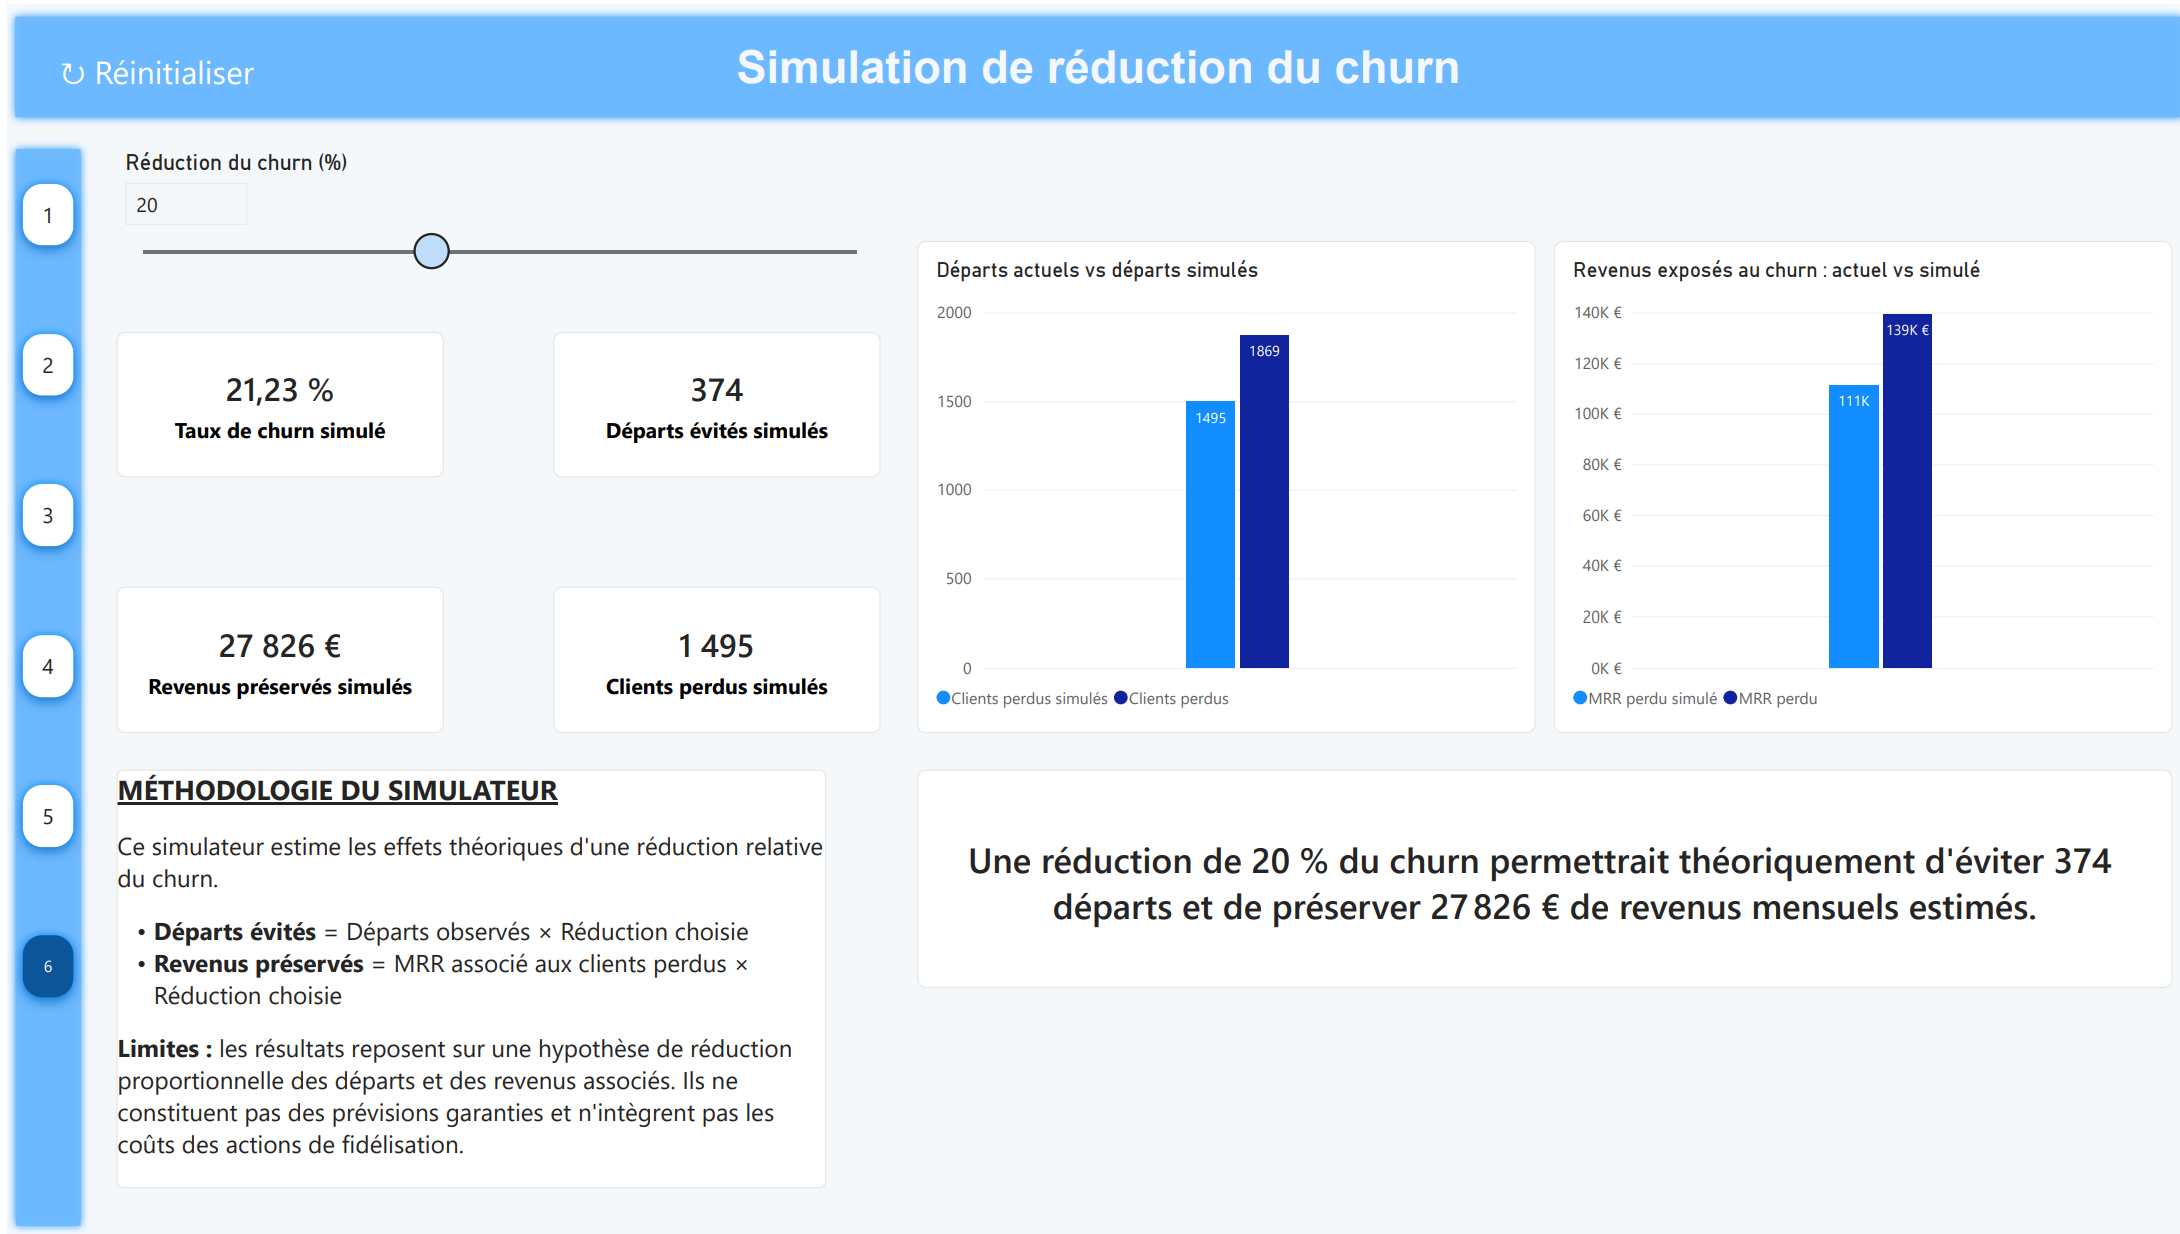

What the dashboard file says about the page in this screenshot:
{"tool":"powerbi","page":{"name":"6","canvas":[1920,1080],"ordinal":5},"visuals":[{"type":"shape","box":[0,3.3,1920,103.3],"z":0},{"type":"shape","box":[0,120,72,960],"z":1000},{"type":"slicer","fields":{"Values":["Réduction du churn (%).Réduction du churn (%)"]},"box":[96,128,672,144],"z":2000},{"type":"card","fields":{"Values":["Clients.Taux de churn simulé"]},"box":[96,288,288,128],"z":3000},{"type":"card","fields":{"Values":["Réduction du churn (%).Départs évités simulés"]},"box":[480,288,288,128],"z":4000},{"type":"card","fields":{"Values":["Réduction du churn (%).Revenus préservés simulés"]},"box":[96,512,288,128],"z":5000},{"type":"card","fields":{"Values":["Réduction du churn (%).Clients perdus simulés"]},"box":[480,512,288,128],"z":6000},{"type":"clusteredColumnChart","title":"Départs actuels vs départs simulés","fields":{"Y":["Réduction du churn (%).Clients perdus simulés","Mesures.Clients perdus"]},"box":[800,208,544,432],"z":7000},{"type":"clusteredColumnChart","title":"Revenus exposés au churn : actuel vs simulé","fields":{"Y":["Mesures.MRR perdu simulé","Mesures.MRR perdu"]},"box":[1360,208,544,432],"z":8000},{"type":"card","fields":{"Values":["Clients.Synthèse simulation"]},"box":[800,672,1104,192],"z":9000},{"type":"textbox","box":[96,672,624,368],"z":10000},{"type":"pageNavigator","box":[0,144,72,744],"z":10001},{"type":"actionButton","box":[24,24,216,72],"z":10002}]}

Visuals, with their boxes in screenshot pixels (x1, y1, x2, y2), scaled from the page's 1920x1080 canvas onto the 2180x1234 screenshot:
shape: [x1=0, y1=4, x2=2179, y2=122]
shape: [x1=0, y1=137, x2=82, y2=1233]
slicer - Réduction du churn (%).Réduction du churn (%): [x1=109, y1=146, x2=872, y2=311]
card - Clients.Taux de churn simulé: [x1=109, y1=329, x2=436, y2=475]
card - Réduction du churn (%).Départs évités simulés: [x1=545, y1=329, x2=872, y2=475]
card - Réduction du churn (%).Revenus préservés simulés: [x1=109, y1=585, x2=436, y2=731]
card - Réduction du churn (%).Clients perdus simulés: [x1=545, y1=585, x2=872, y2=731]
"Départs actuels vs départs simulés" clusteredColumnChart: [x1=908, y1=238, x2=1526, y2=731]
"Revenus exposés au churn : actuel vs simulé" clusteredColumnChart: [x1=1544, y1=238, x2=2162, y2=731]
card - Clients.Synthèse simulation: [x1=908, y1=768, x2=2162, y2=987]
textbox: [x1=109, y1=768, x2=818, y2=1188]
pageNavigator: [x1=0, y1=165, x2=82, y2=1015]
actionButton: [x1=27, y1=27, x2=272, y2=110]
